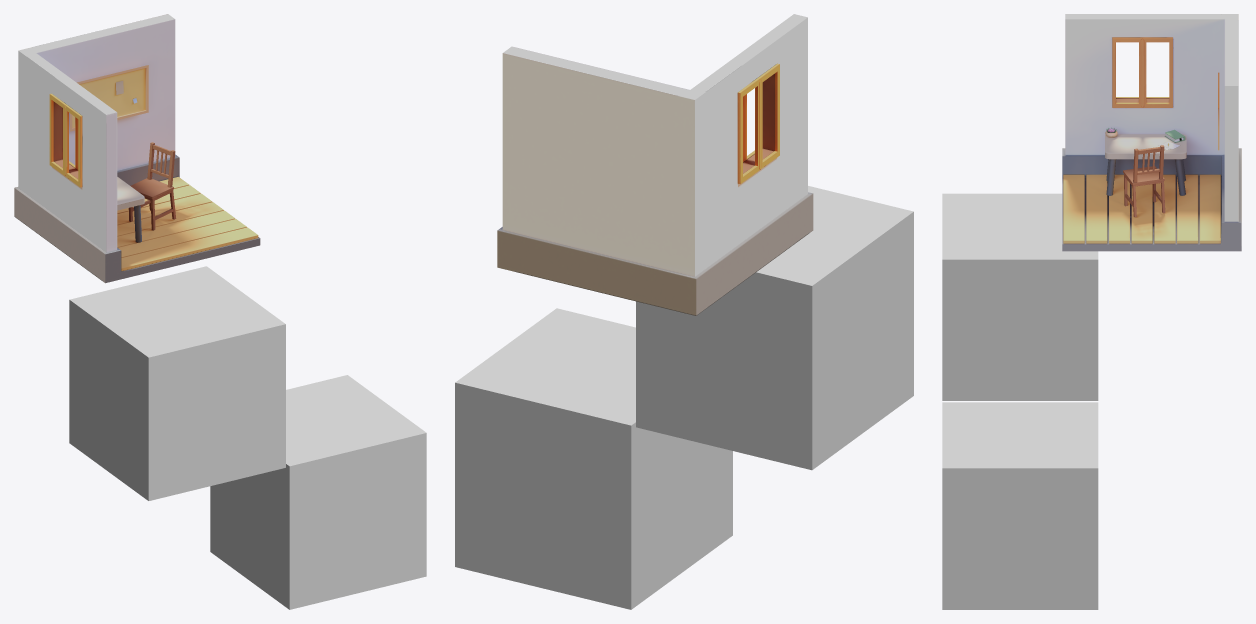
The model's file is gelb2.glb.
The picture shows the model from 3 angles, left to right: view 1: azimuth 30°, elevation 25°; view 2: azimuth 150°, elevation 25°; view 3: azimuth 270°, elevation 25°; orthographic projection. The views are drawn at different scales.
Parts seen in each view (by area): view 1: Cube, RoomFace, Cube.001; view 2: RoomFace, Cube.001, Cube; view 3: RoomFace, Cube.001, Cube.
Part boxes in pixels (<box>): Cube: <box>69,266,285,500</box>; RoomFace: <box>14,14,260,283</box>; Cube.001: <box>210,375,426,609</box>; RoomFace: <box>497,14,813,315</box>; Cube.001: <box>455,308,732,609</box>; Cube: <box>636,186,913,470</box>; RoomFace: <box>1062,14,1241,251</box>; Cube.001: <box>942,402,1098,609</box>; Cube: <box>942,193,1098,400</box>.
Bounding box in the file's own units: 4.05 × 6.67 × 3.84.
1 material, 1 textured.
